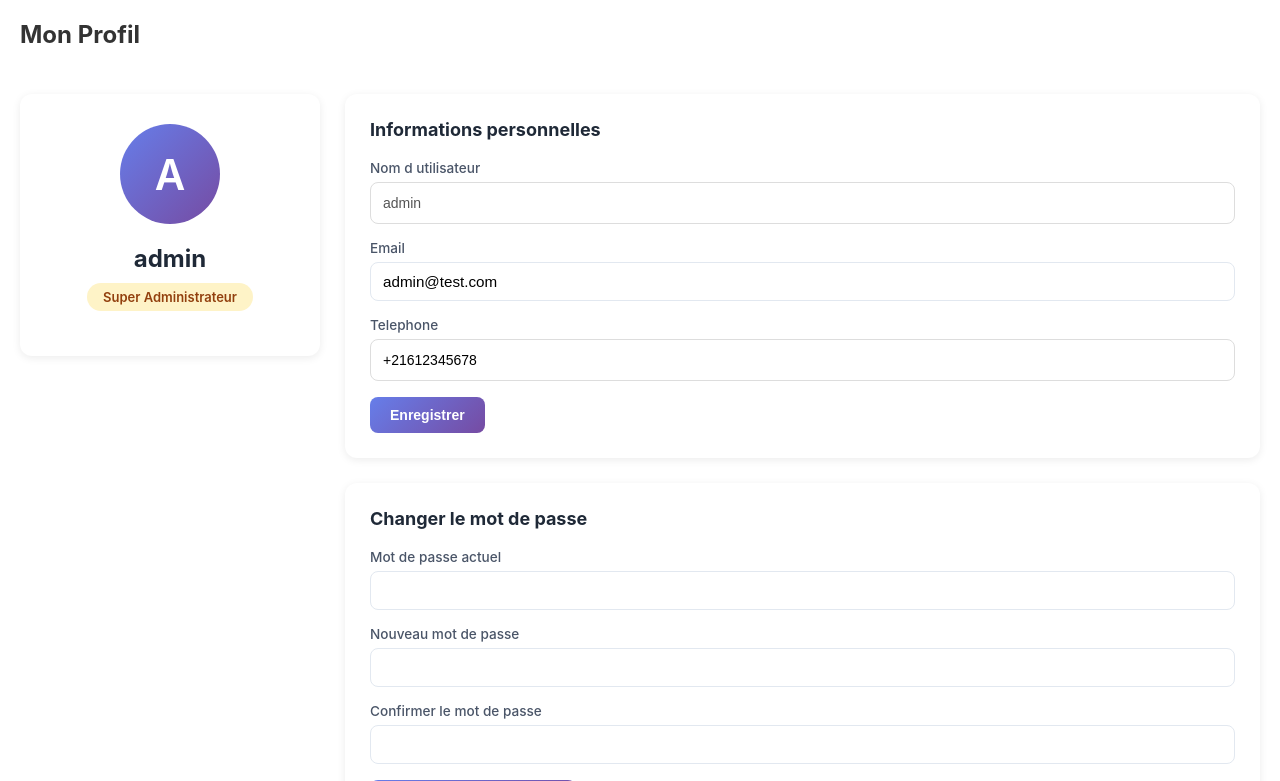
Test: Profile › validates password length requirement
expect the heading "Informations personnelles" is shown: met, box [370,119,601,140]
Type "oldpass" into the password field below "Mot de passe actuel" at (802, 590), box [370,571,1235,610]
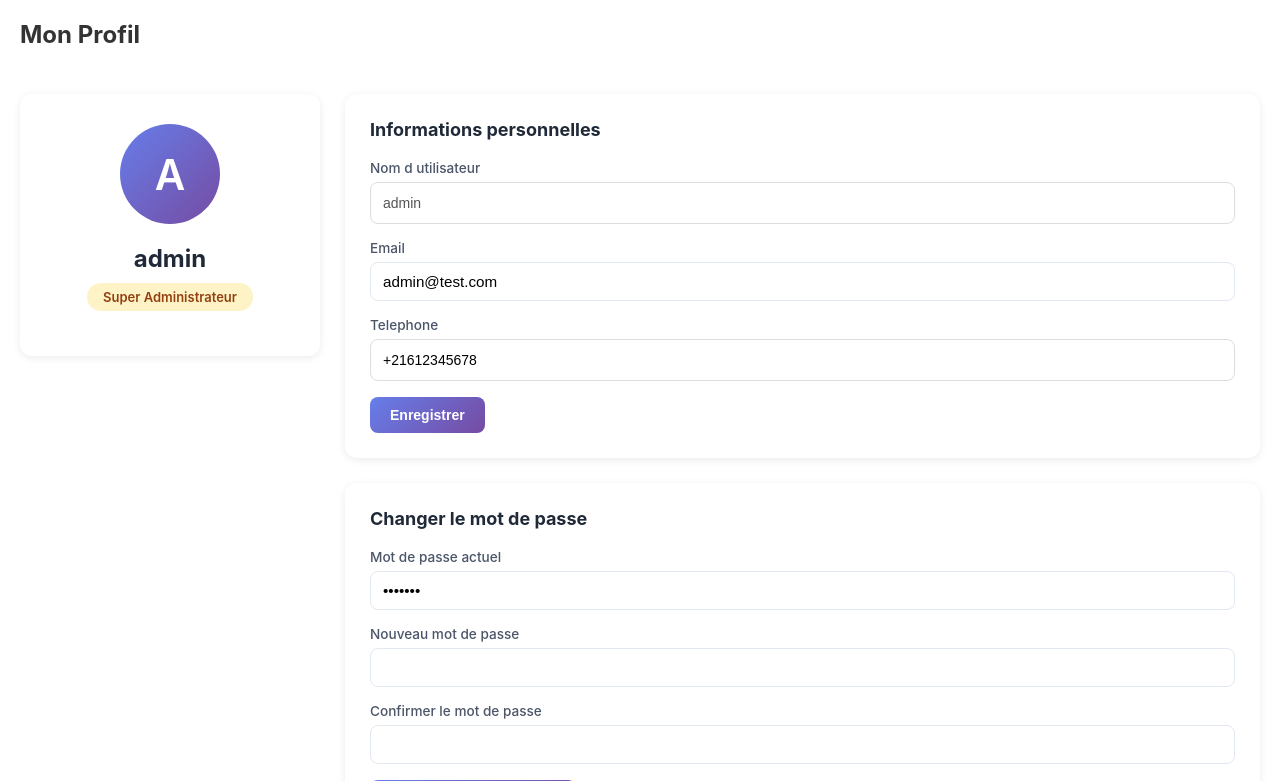
Type "12" into the password field below "Nouveau mot de passe" at (802, 668), box [370,648,1235,687]
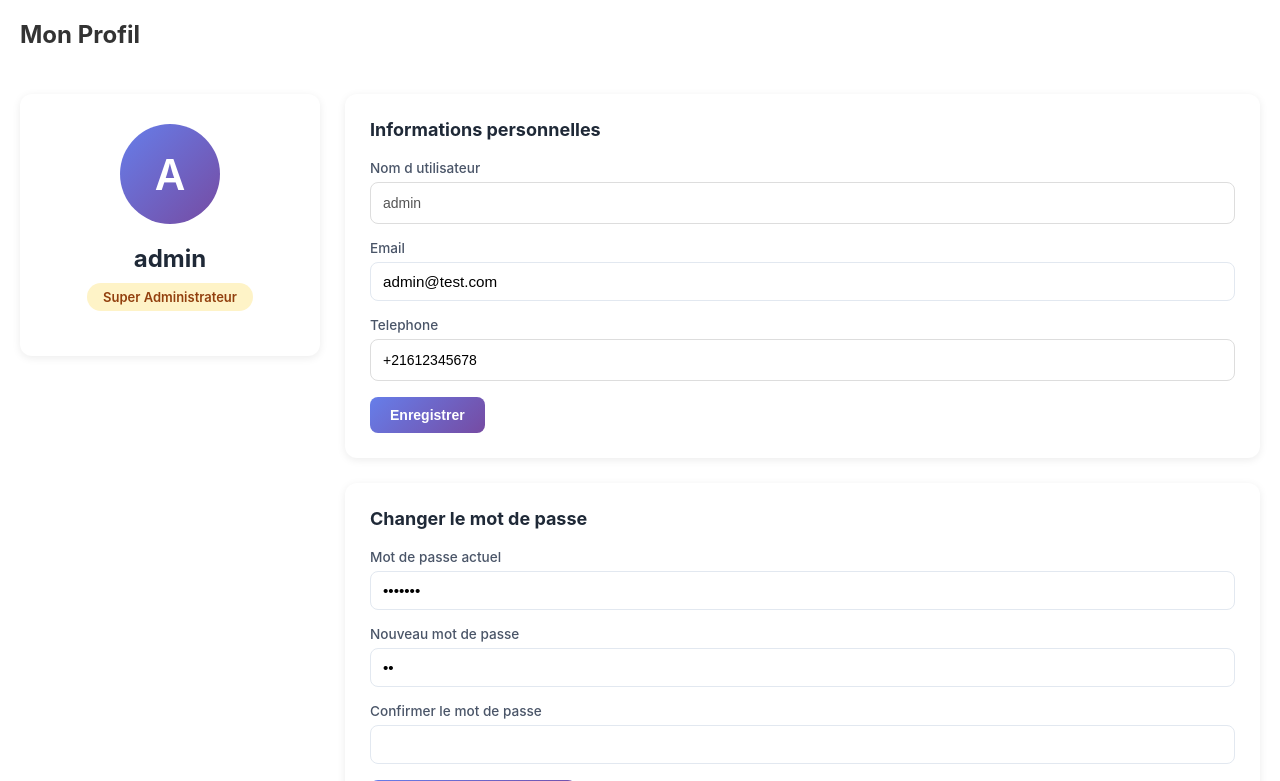
Type "12" into the password field below "Confirmer le mot de passe" at (802, 744), box [370,725,1235,764]
(page scrolled)
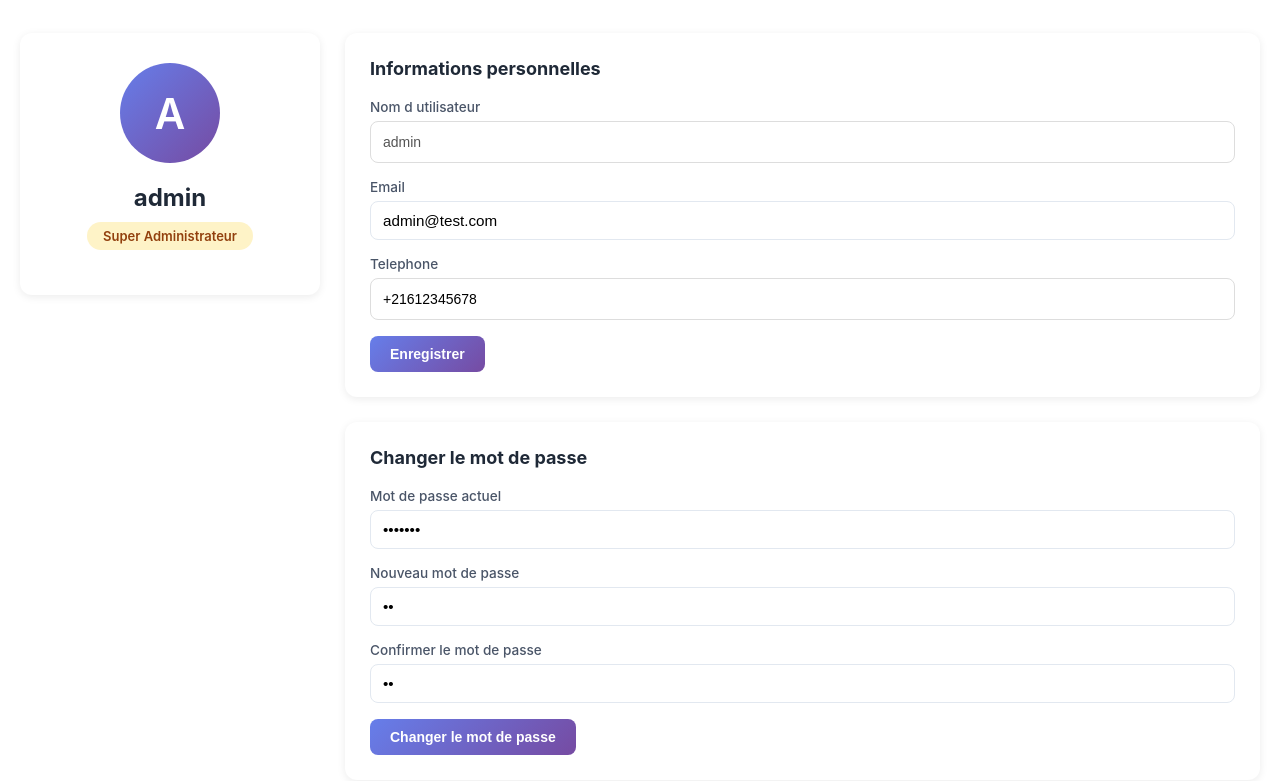
Click the button "Changer le mot de passe" at (473, 737), box [370,719,576,755]
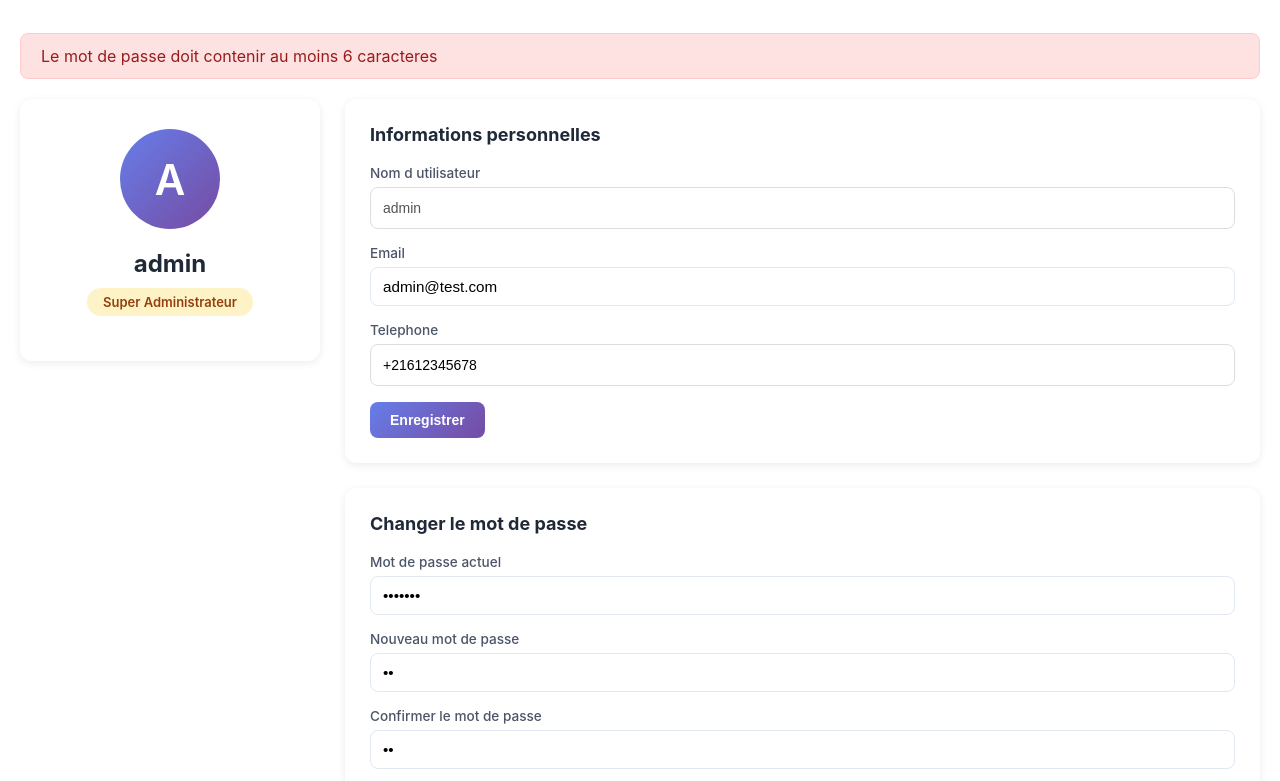
expect the text "Le mot de passe doit contenir au moins 6 caracteres" is shown: met, box [20,33,1260,79]
